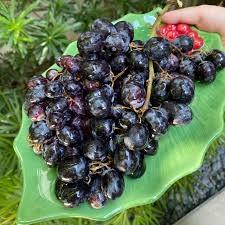Grape Rotten: (24, 18, 225, 210)
